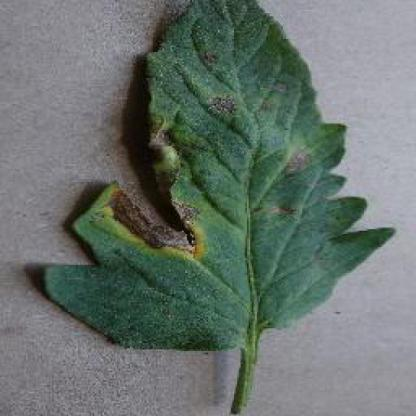Tomato_Blight: (44, 0, 392, 354)
